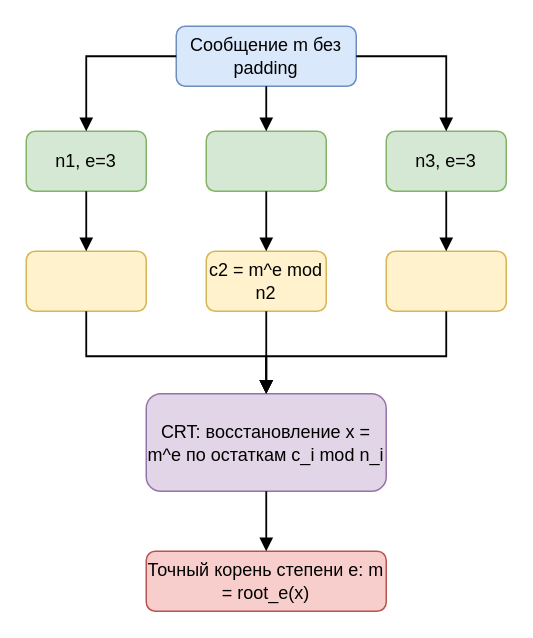
Some shapes in this 533 by 638 pixel diagram are drawn without their labels. The box of each missing label's shape, as (x1, y1, x2, y2) in pixels:
c1 = m^e mod n1: (25, 250, 146, 311)
c3 = m^e mod n3: (385, 250, 506, 311)
n2, e=3: (205, 130, 326, 191)
